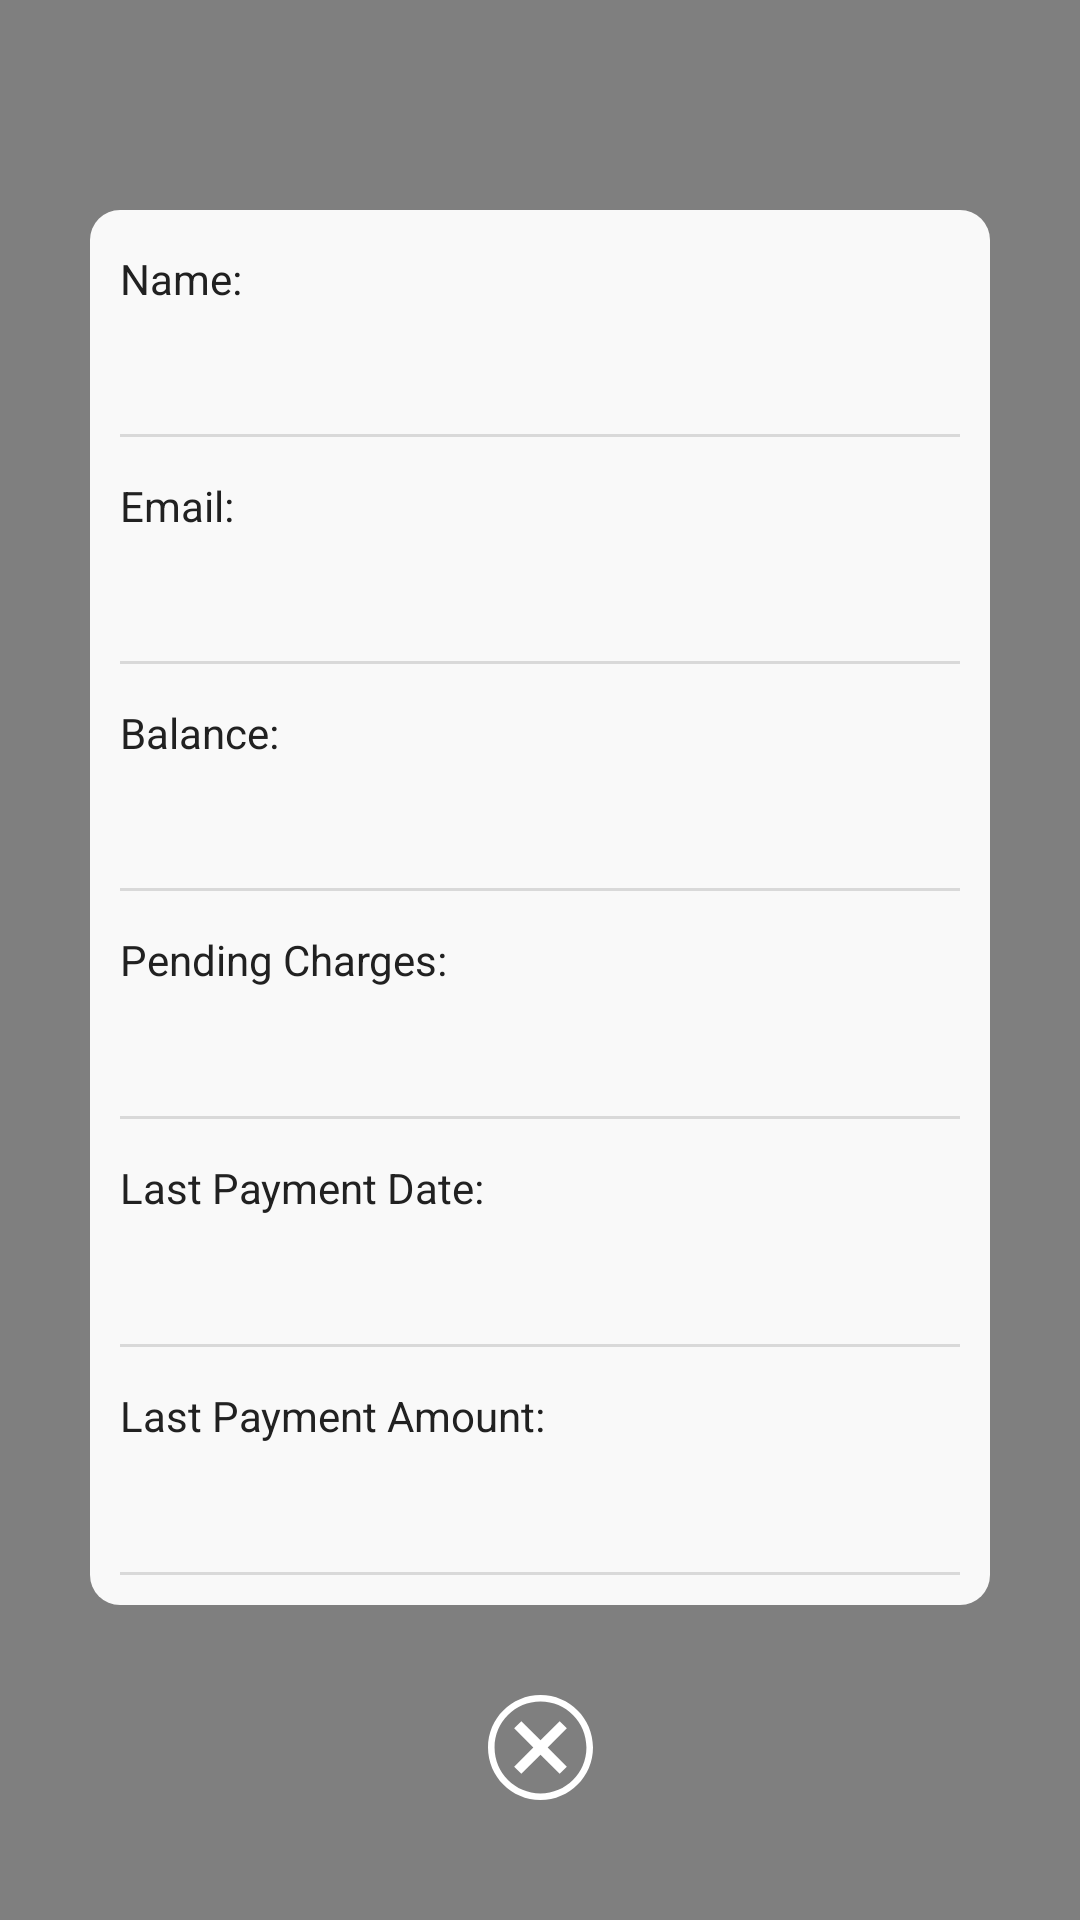

Icons on this 1080×1920 Android screen, each with the point to tap as (x,y):
account close: (540,1747)
